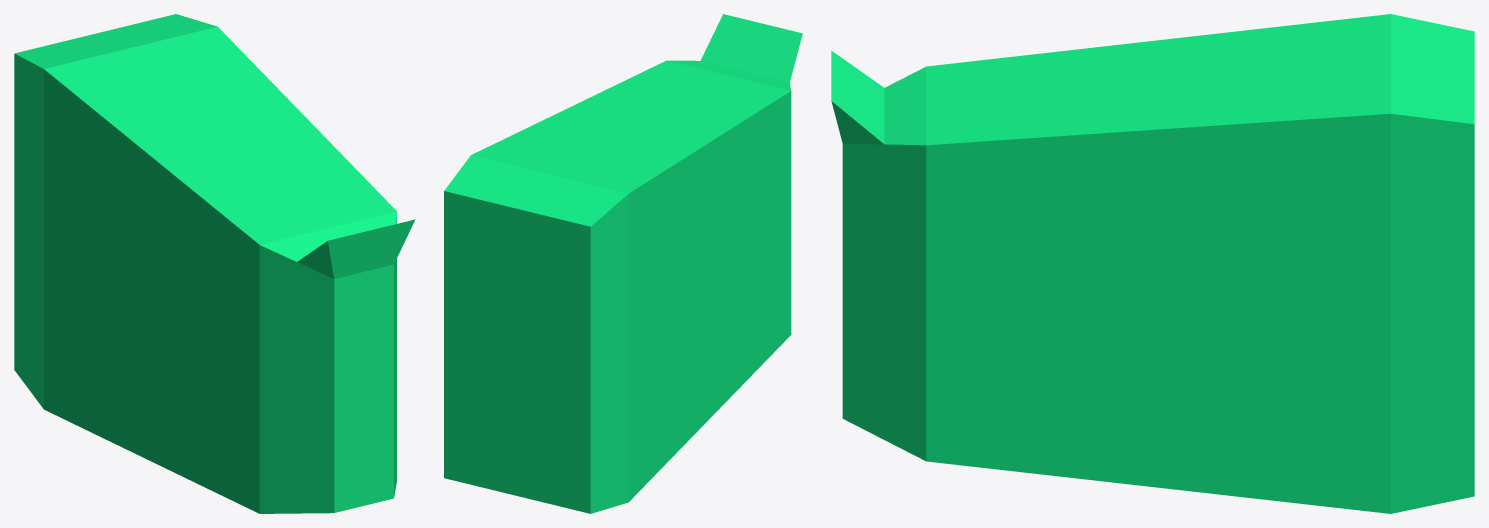
File: VanillaBag.obj
3 views of the same model, side by side, from view 1: azimuth 30°, elevation 25°; view 2: azimuth 150°, elevation 25°; view 3: azimuth 270°, elevation 25° (orthographic). The views are drawn at different scales.
Visible parts, largest first — view 1: bag.000_bag.001; view 2: bag.000_bag.001; view 3: bag.000_bag.001.
Boxes of the visible parts, bbox=[...] form: bag.000_bag.001: bbox=[14, 14, 415, 513]; bag.000_bag.001: bbox=[444, 14, 802, 513]; bag.000_bag.001: bbox=[831, 14, 1474, 513].
Size of the model in its own units: 0.1101 by 0.2059 by 0.2999.
